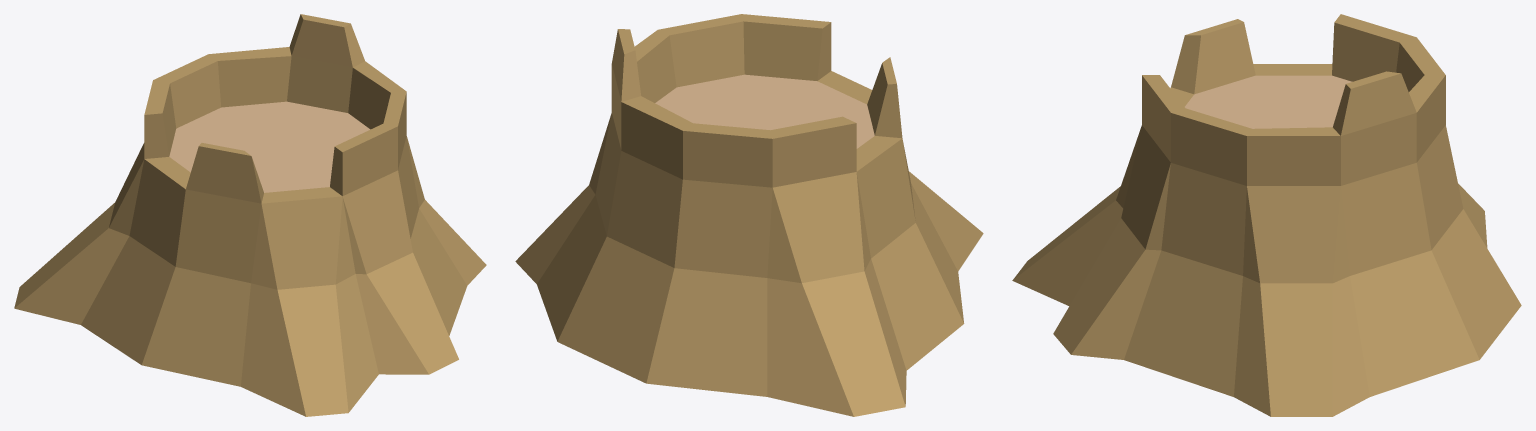
File: Oak_Stump_05.fbx
The picture shows the model from 3 angles, left to right: view 1: azimuth 30°, elevation 25°; view 2: azimuth 150°, elevation 25°; view 3: azimuth 270°, elevation 25°; orthographic projection. The views are drawn at different scales.
Visible parts, largest first — view 1: Oak_Stump_05; view 2: Oak_Stump_05; view 3: Oak_Stump_05.
Part boxes in pixels (left/top/right/bottom): Oak_Stump_05: left=14, top=14, right=486, bottom=416; Oak_Stump_05: left=515, top=14, right=983, bottom=416; Oak_Stump_05: left=1012, top=14, right=1521, bottom=416.
Bounding box in the file's own units: 142 × 82.85 × 139.
